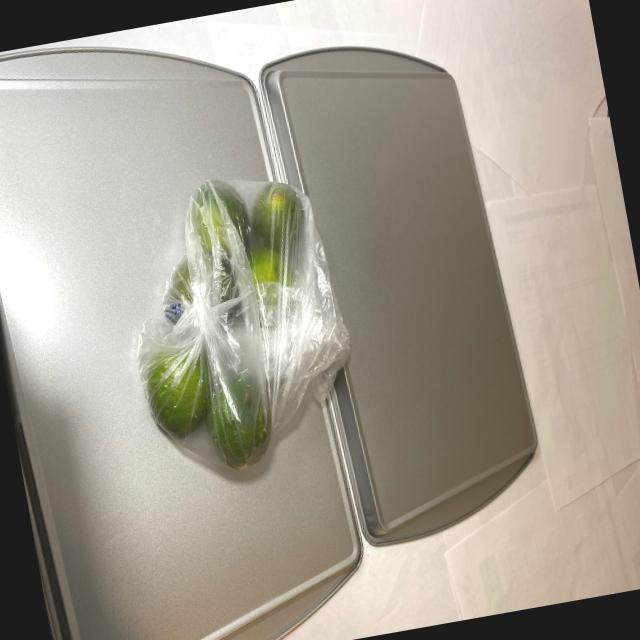lemon: (115, 163, 358, 479)
